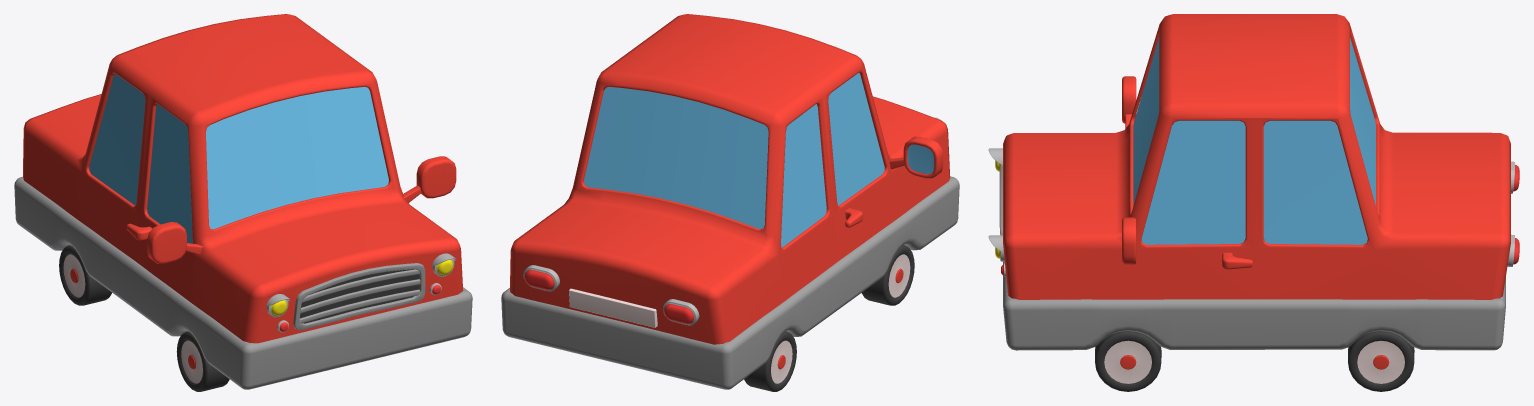
The model's file is City_8_Car_1.glb.
The picture shows the model from 3 angles, left to right: view 1: azimuth 30°, elevation 25°; view 2: azimuth 150°, elevation 25°; view 3: azimuth 270°, elevation 25°; orthographic projection. The views are drawn at different scales.
Visible parts, largest first — view 1: City_8_Car_1; view 2: City_8_Car_1; view 3: City_8_Car_1.
Boxes of the visible parts, x1,y1,x2,y2 form: City_8_Car_1: (14,14,472,391); City_8_Car_1: (501,14,959,391); City_8_Car_1: (988,14,1519,391).
Size of the model in its own units: 3.04 by 2.52 by 4.27.
Materials: 1 (1 with a texture image).
